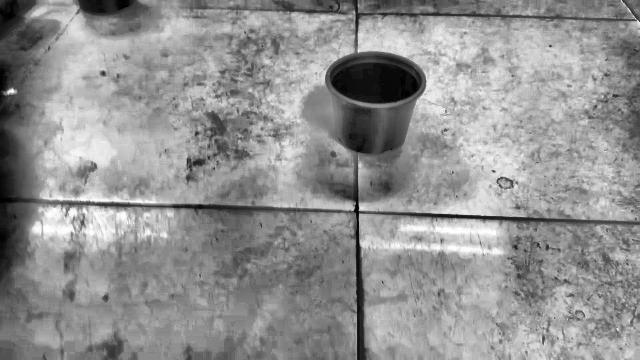pot: (325, 53, 425, 153)
